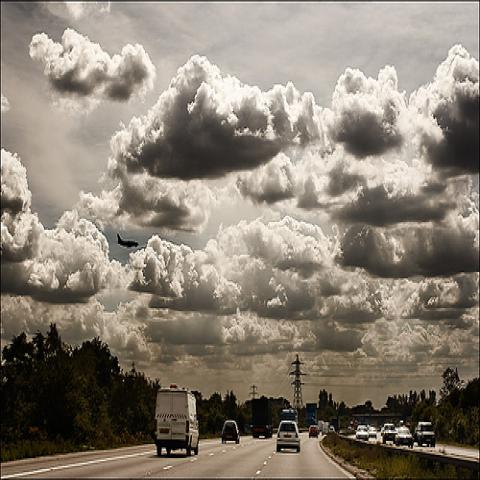car: (276, 421, 301, 453), (222, 421, 239, 443), (397, 426, 413, 443), (355, 425, 369, 440), (309, 424, 318, 438), (368, 426, 376, 437), (347, 426, 352, 431), (330, 427, 335, 431)
truck: (154, 382, 200, 456), (252, 398, 274, 438), (416, 422, 435, 448), (381, 423, 397, 444), (306, 402, 317, 426), (354, 425, 369, 442), (280, 409, 296, 420), (321, 422, 330, 436)
